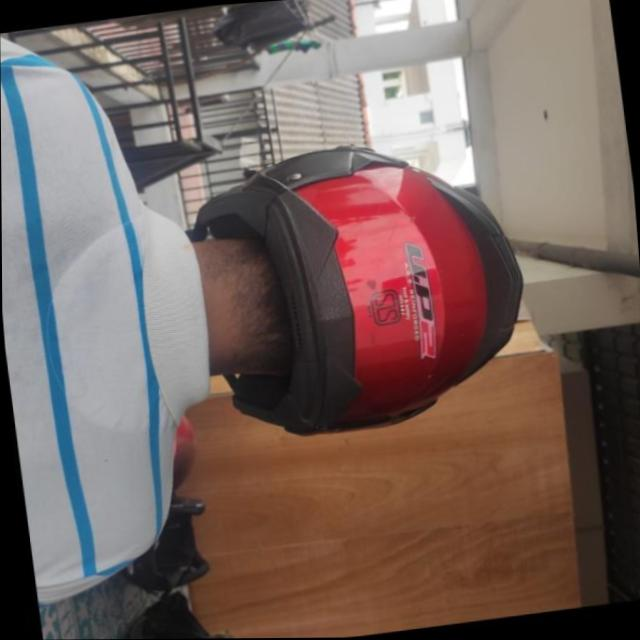WITH_HELMET: (199, 123, 546, 455)
